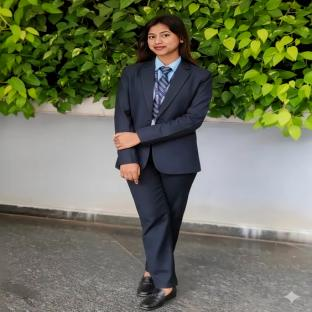Human: (113, 15, 212, 310)
